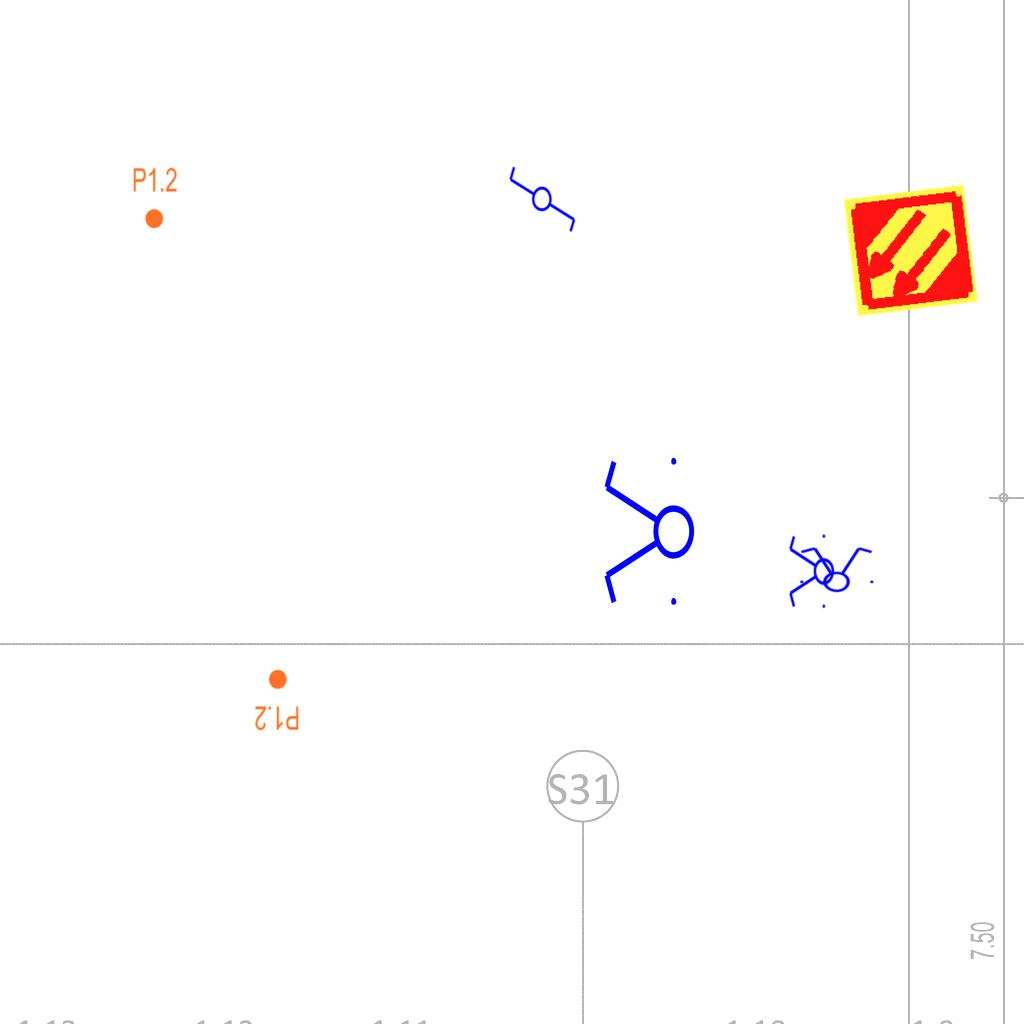ASR_Ansaugrauchmelder: (840, 180, 981, 321)
Downlight_LED_Einbauleuchten_Flur: (132, 166, 178, 230), (254, 668, 300, 732)
Serienschalter: (600, 449, 696, 617), (787, 530, 835, 614), (794, 545, 878, 593)
Wechselschalter: (507, 156, 579, 234)
